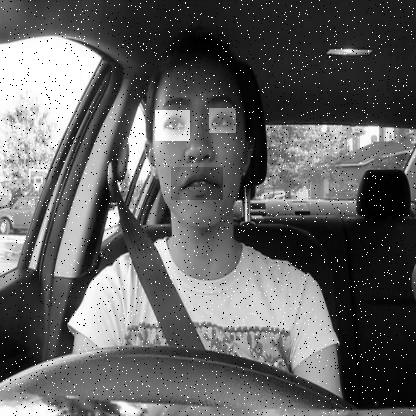seatbelt: (121, 35, 288, 351)
